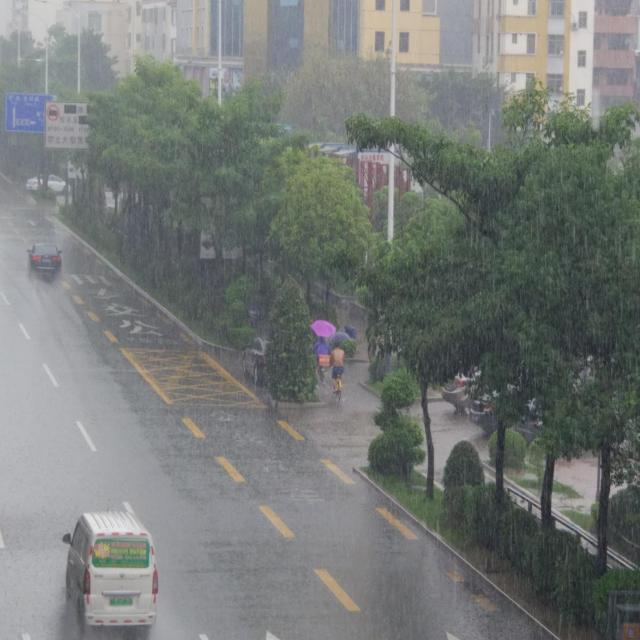car: (58, 510, 162, 630), (240, 338, 306, 388), (26, 240, 64, 278)
